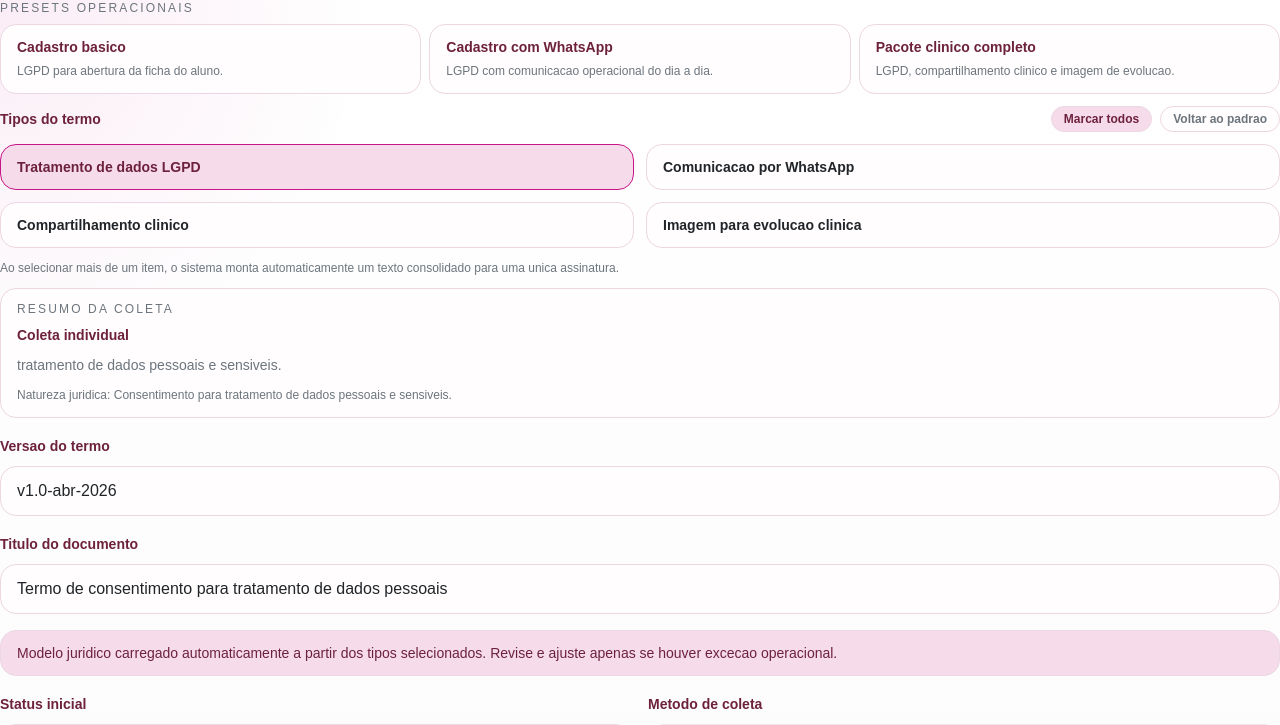
Scenario: LegalAcceptanceForm › atualiza o modelo juridico ao trocar o tipo do termo
Step 1. Click the text "Comunicacao por WhatsApp" → (759, 167), box x1=663 y1=159 x2=854 y2=175
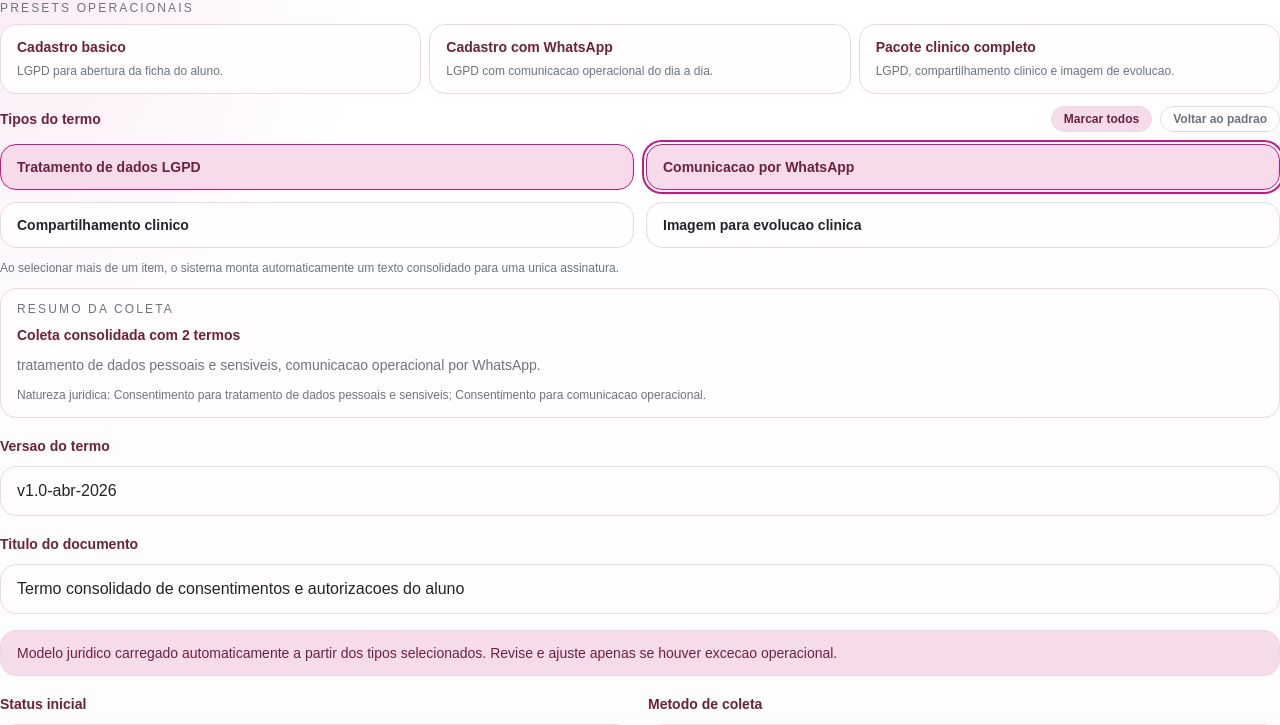
Step 2. Click the text "Tratamento de dados LGPD" → (109, 167), box x1=17 y1=159 x2=201 y2=175
(page scrolled)
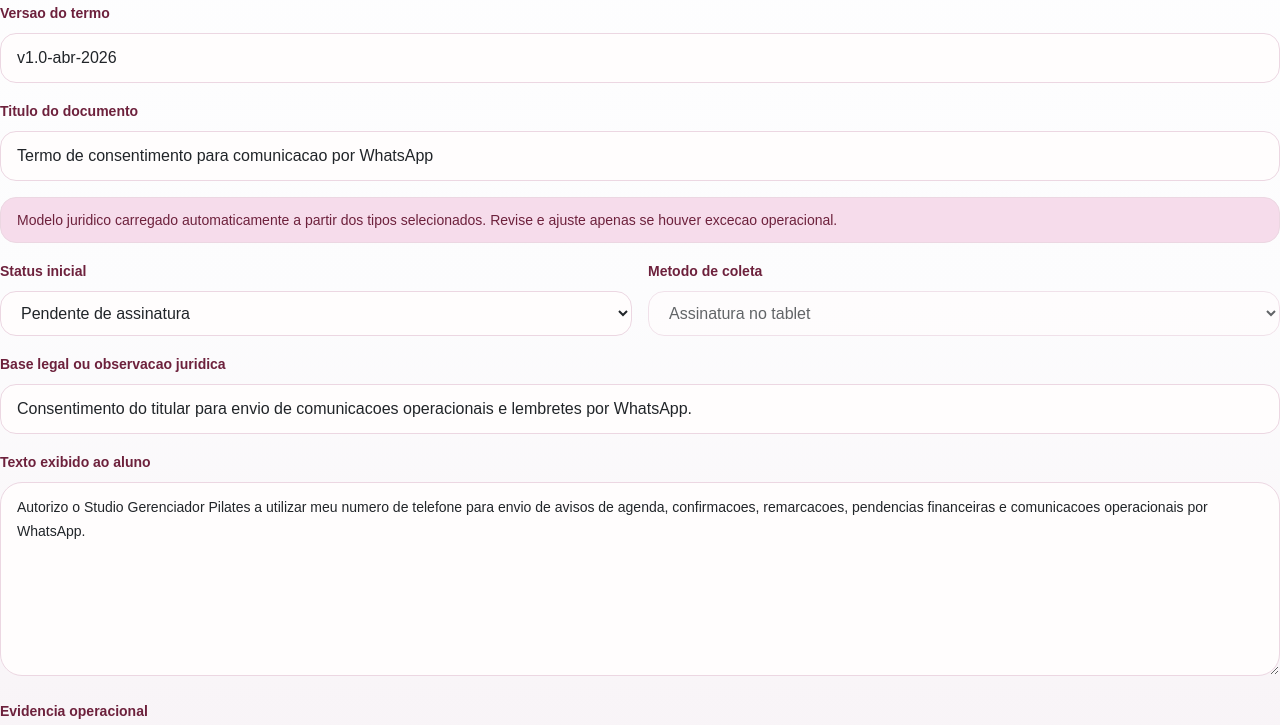
Now the field labelled "Titulo do documento" holds "Termo de consentimento para comunicacao por WhatsApp", box x1=0 y1=131 x2=1279 y2=181
Now the field labelled "Base legal ou observacao juridica" holds "Consentimento do titular para envio de comunicacoes operacionais e lembretes por WhatsApp.", box x1=0 y1=384 x2=1279 y2=434
Now the text box labelled "Texto exibido ao aluno" holds "Autorizo o Studio Gerenciador Pilates a utilizar meu numero de telefone para envio de avisos de agenda, confirmacoes, remarcacoes, pendencias financeiras e comu", box x1=0 y1=482 x2=1279 y2=676
